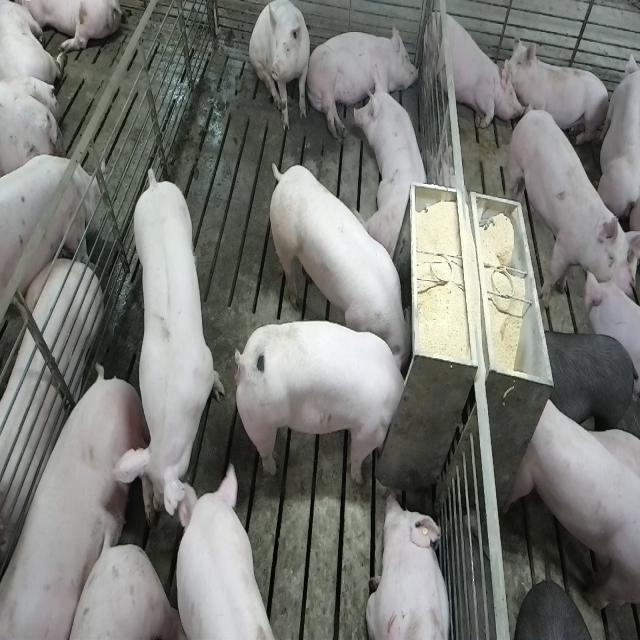Feeding: (264, 160, 412, 368), (230, 318, 408, 485)
Lateral_lying: (0, 369, 150, 640), (0, 258, 102, 578), (307, 24, 418, 140)
Sitting: (424, 3, 517, 138), (249, 2, 312, 134)
Standing: (121, 168, 221, 536), (512, 394, 638, 618), (504, 110, 634, 318), (0, 156, 99, 346), (540, 327, 637, 438)
Sternal_lying: (355, 70, 433, 258), (366, 490, 453, 640), (506, 38, 610, 150)
